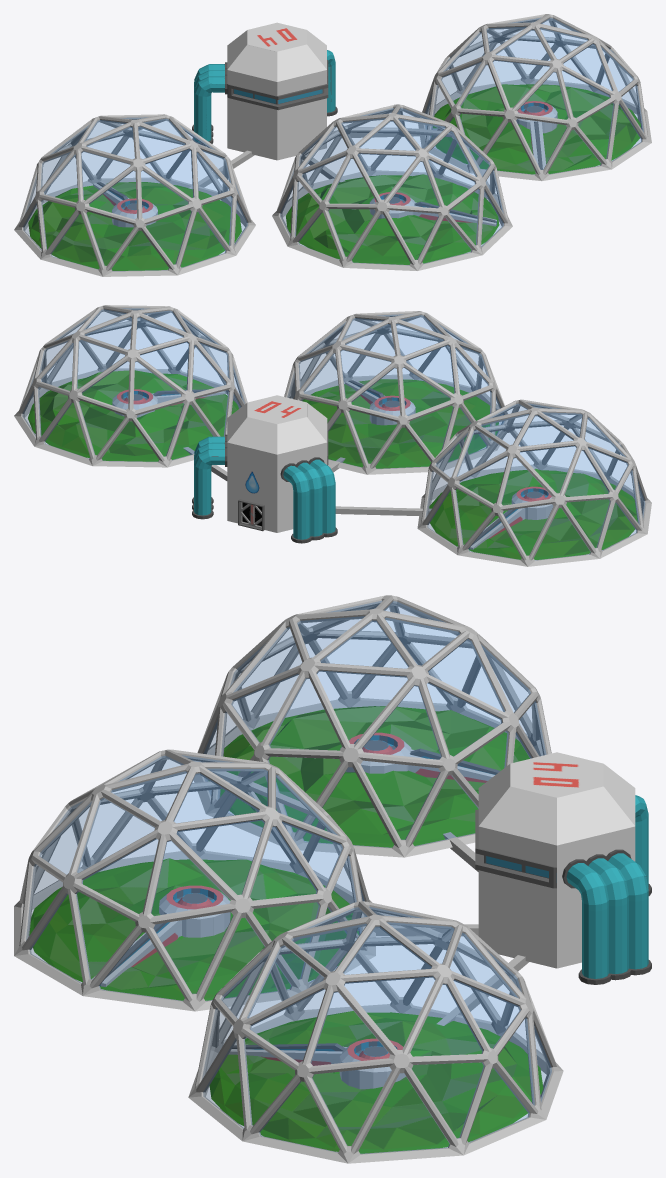
File: OrganicPlant.glb
3 views of the same model, one above another, from view 1: azimuth 30°, elevation 25°; view 2: azimuth 150°, elevation 25°; view 3: azimuth 270°, elevation 25° (orthographic). The views are drawn at different scales.
Parts seen in each view (by area): view 1: DomeGlass, DomeGlass.002, DomeGlass.001, DomeFrame, DomeFrame.002, DomeFrame.001, Main, salad, salad.002, salad.001, BIGPipes, DomeCore.002 (+4 smaller); view 2: DomeGlass.002, DomeGlass.001, DomeGlass, DomeFrame.002, DomeFrame.001, DomeFrame, salad.001, salad.002, Main, salad, BIGPipes, DomeCore.002 (+5 smaller); view 3: DomeGlass.001, DomeGlass, DomeGlass.002, DomeFrame.001, DomeFrame, DomeFrame.002, Main, salad.001, salad, salad.002, BIGPipes, DomeCore (+5 smaller).
Part boxes in pixels (x1,y1,x2,y2): DomeGlass: [280, 108, 503, 264]; DomeGlass.002: [23, 117, 247, 270]; DomeGlass.001: [425, 18, 643, 174]; DomeFrame: [272, 104, 512, 270]; DomeFrame.002: [14, 114, 255, 276]; DomeFrame.001: [418, 14, 651, 181]; Main: [227, 22, 328, 160]; salad: [286, 174, 499, 264]; salad.002: [28, 182, 241, 270]; salad.001: [432, 84, 640, 174]; BIGPipes: [192, 50, 337, 146]; DomeCore.002: [112, 198, 157, 227]; DomeGlass.002: [426, 403, 644, 560]; DomeGlass.001: [22, 308, 244, 461]; DomeGlass: [287, 314, 503, 468]; DomeFrame.002: [417, 399, 651, 566]; DomeFrame.001: [14, 305, 247, 467]; DomeFrame: [284, 311, 508, 474]; salad.001: [28, 370, 238, 461]; salad.002: [429, 468, 637, 559]; Main: [227, 395, 328, 532]; salad: [302, 379, 498, 468]; BIGPipes: [192, 434, 337, 543]; DomeCore.002: [511, 486, 553, 519]; DomeGlass.001: [202, 907, 551, 1153]; DomeGlass: [26, 755, 365, 1000]; DomeGlass.002: [204, 601, 545, 847]; DomeFrame.001: [188, 901, 563, 1163]; DomeFrame: [14, 749, 375, 1011]; DomeFrame.002: [193, 595, 551, 857]; Main: [475, 752, 635, 968]; salad.001: [209, 1011, 543, 1153]; salad: [29, 858, 358, 1000]; salad.002: [208, 706, 529, 847]; BIGPipes: [562, 795, 651, 984]; DomeCore: [159, 885, 230, 937].
Bounding box in the file's own units: 8.49 × 1.45 × 4.92.
8 materials, 5 textured.
